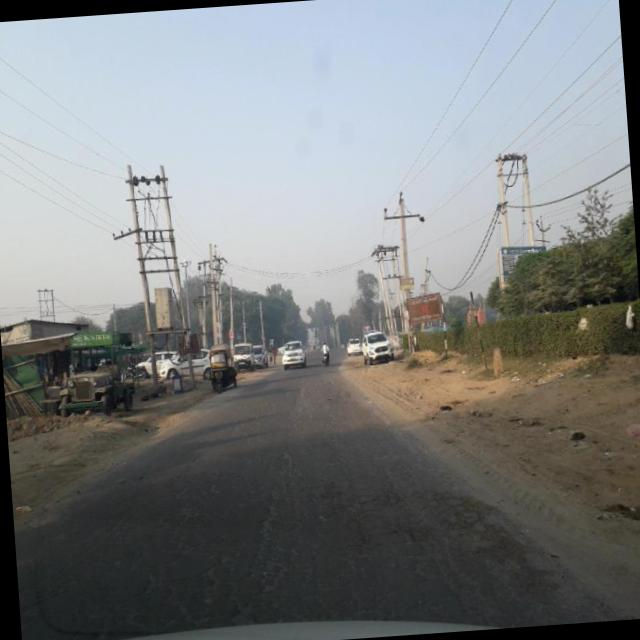crack: (31, 415, 374, 640)
